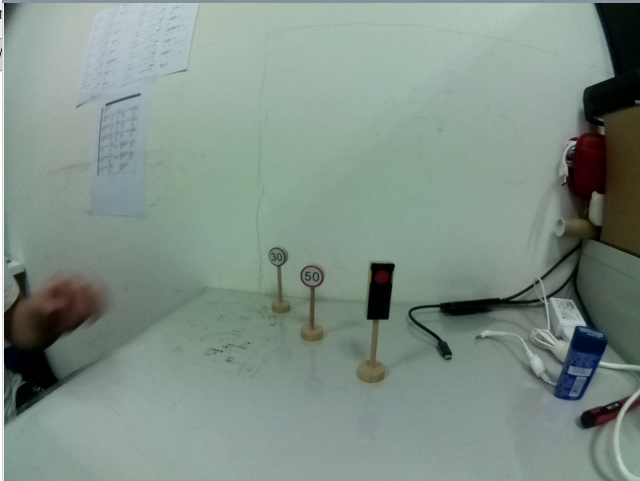Red: (361, 260, 397, 329)
Speed30: (267, 245, 290, 268)
Speed50: (299, 264, 326, 289)
